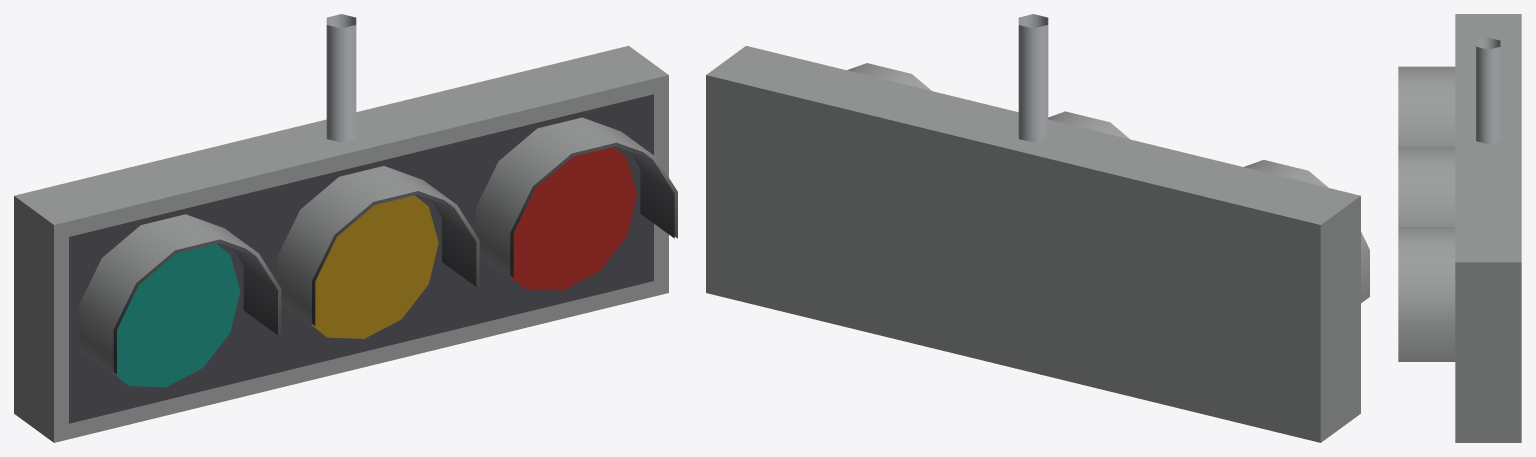
The model's file is traffic_signal_jp_head.fbx.
3 renders of one model, left to right at view 1: azimuth 30°, elevation 25°; view 2: azimuth 150°, elevation 25°; view 3: azimuth 270°, elevation 25°, orthographic. The views are drawn at different scales.
Parts seen in each view (by area): view 1: traffic_signal_jp_head; view 2: traffic_signal_jp_head; view 3: traffic_signal_jp_head.
Part boxes in pixels (left/top/right/bottom): traffic_signal_jp_head: left=14, top=14, right=677, bottom=442; traffic_signal_jp_head: left=706, top=14, right=1369, bottom=442; traffic_signal_jp_head: left=1398, top=14, right=1521, bottom=442.
Size of the model in its own units: 1.24 by 0.64 by 0.26.
